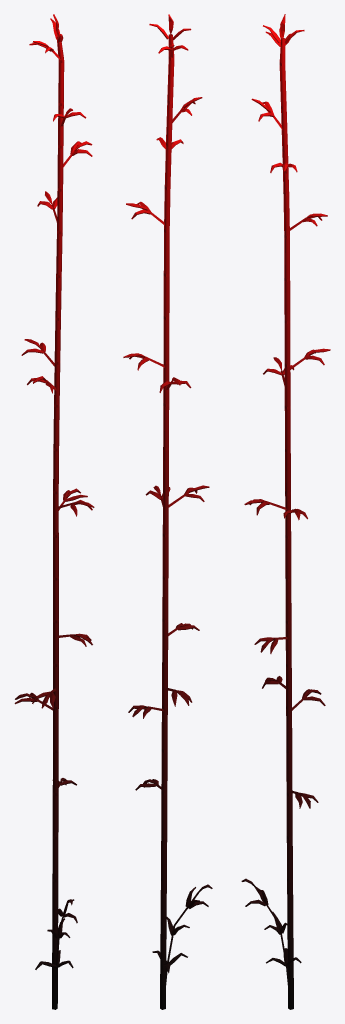
Rendered from TreeBambooTall07.fbx.
The picture shows the model from 3 angles, left to right: view 1: azimuth 90°, elevation 25°; view 2: azimuth 150°, elevation 25°; view 3: azimuth 330°, elevation 25°; orthographic projection.
Parts seen in each view (by area): view 1: TreeBambooTall07_LOD0; view 2: TreeBambooTall07_LOD0; view 3: TreeBambooTall07_LOD0.
Boxes of the visible parts, x1,y1,x2,y2 form: TreeBambooTall07_LOD0: (14, 14, 94, 1009); TreeBambooTall07_LOD0: (123, 14, 212, 1009); TreeBambooTall07_LOD0: (241, 14, 330, 1009).
Size of what is drawn, in the model's own units: 112 by 1443 by 105.
